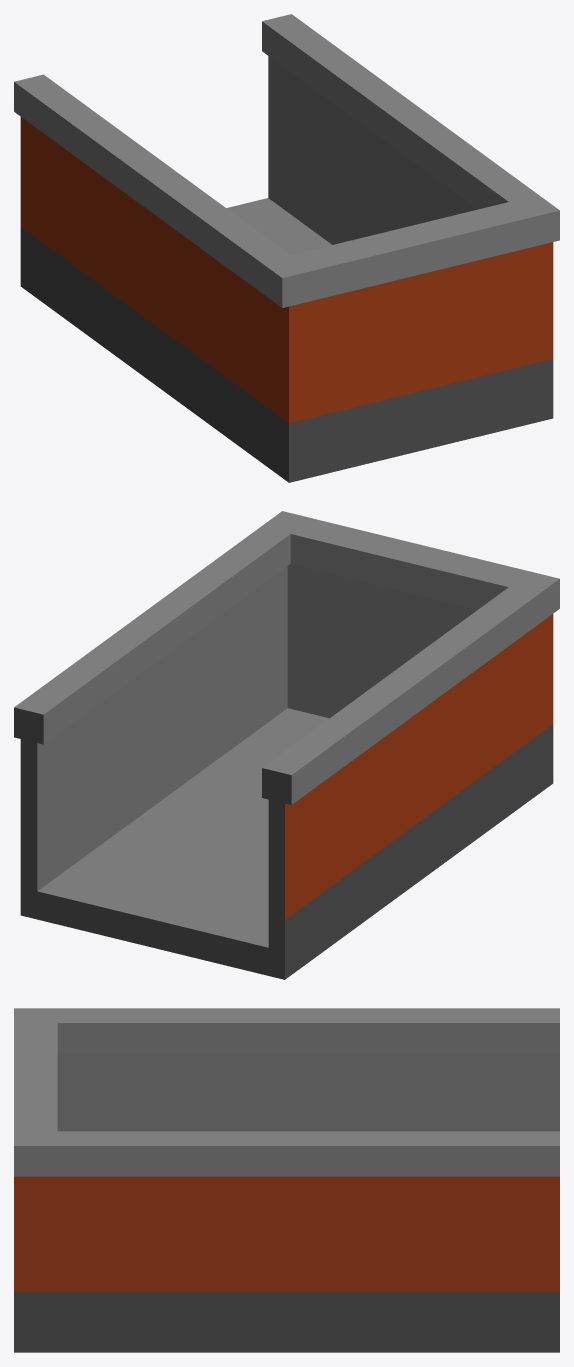
The model's file is Building_05.fbx.
3 renders of one model, top to bottom at view 1: azimuth 30°, elevation 25°; view 2: azimuth 150°, elevation 25°; view 3: azimuth 270°, elevation 25°, orthographic.
Visible parts, largest first — view 1: Building_02; view 2: Building_02; view 3: Building_02.
Boxes of the visible parts, x1=… form: Building_02: x1=14, y1=14, x2=559, y2=482; Building_02: x1=14, y1=511, x2=559, y2=979; Building_02: x1=14, y1=1008, x2=559, y2=1352.
Size of the model in its own units: 430 by 305 by 720.
Materials: 1 (1 with a texture image).
